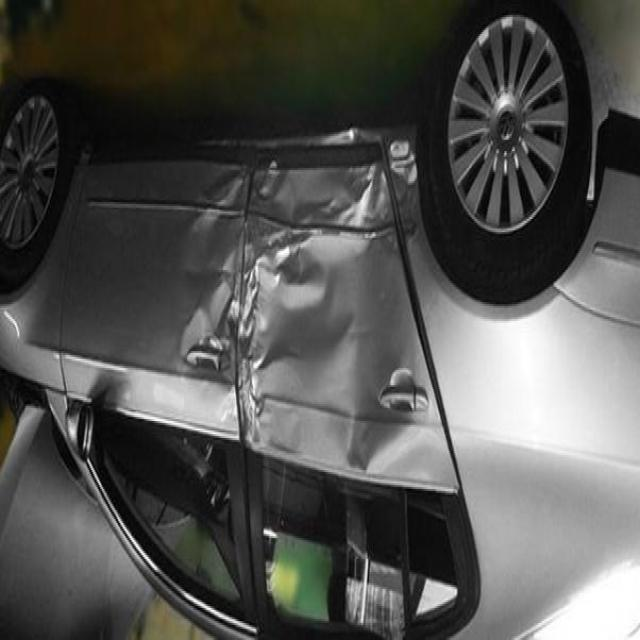dent: (175, 132, 416, 438)
